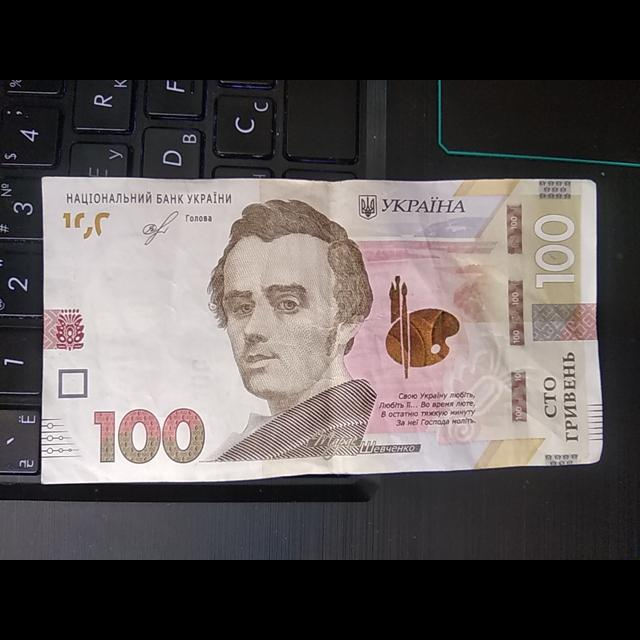100uah: (35, 180, 591, 464)
